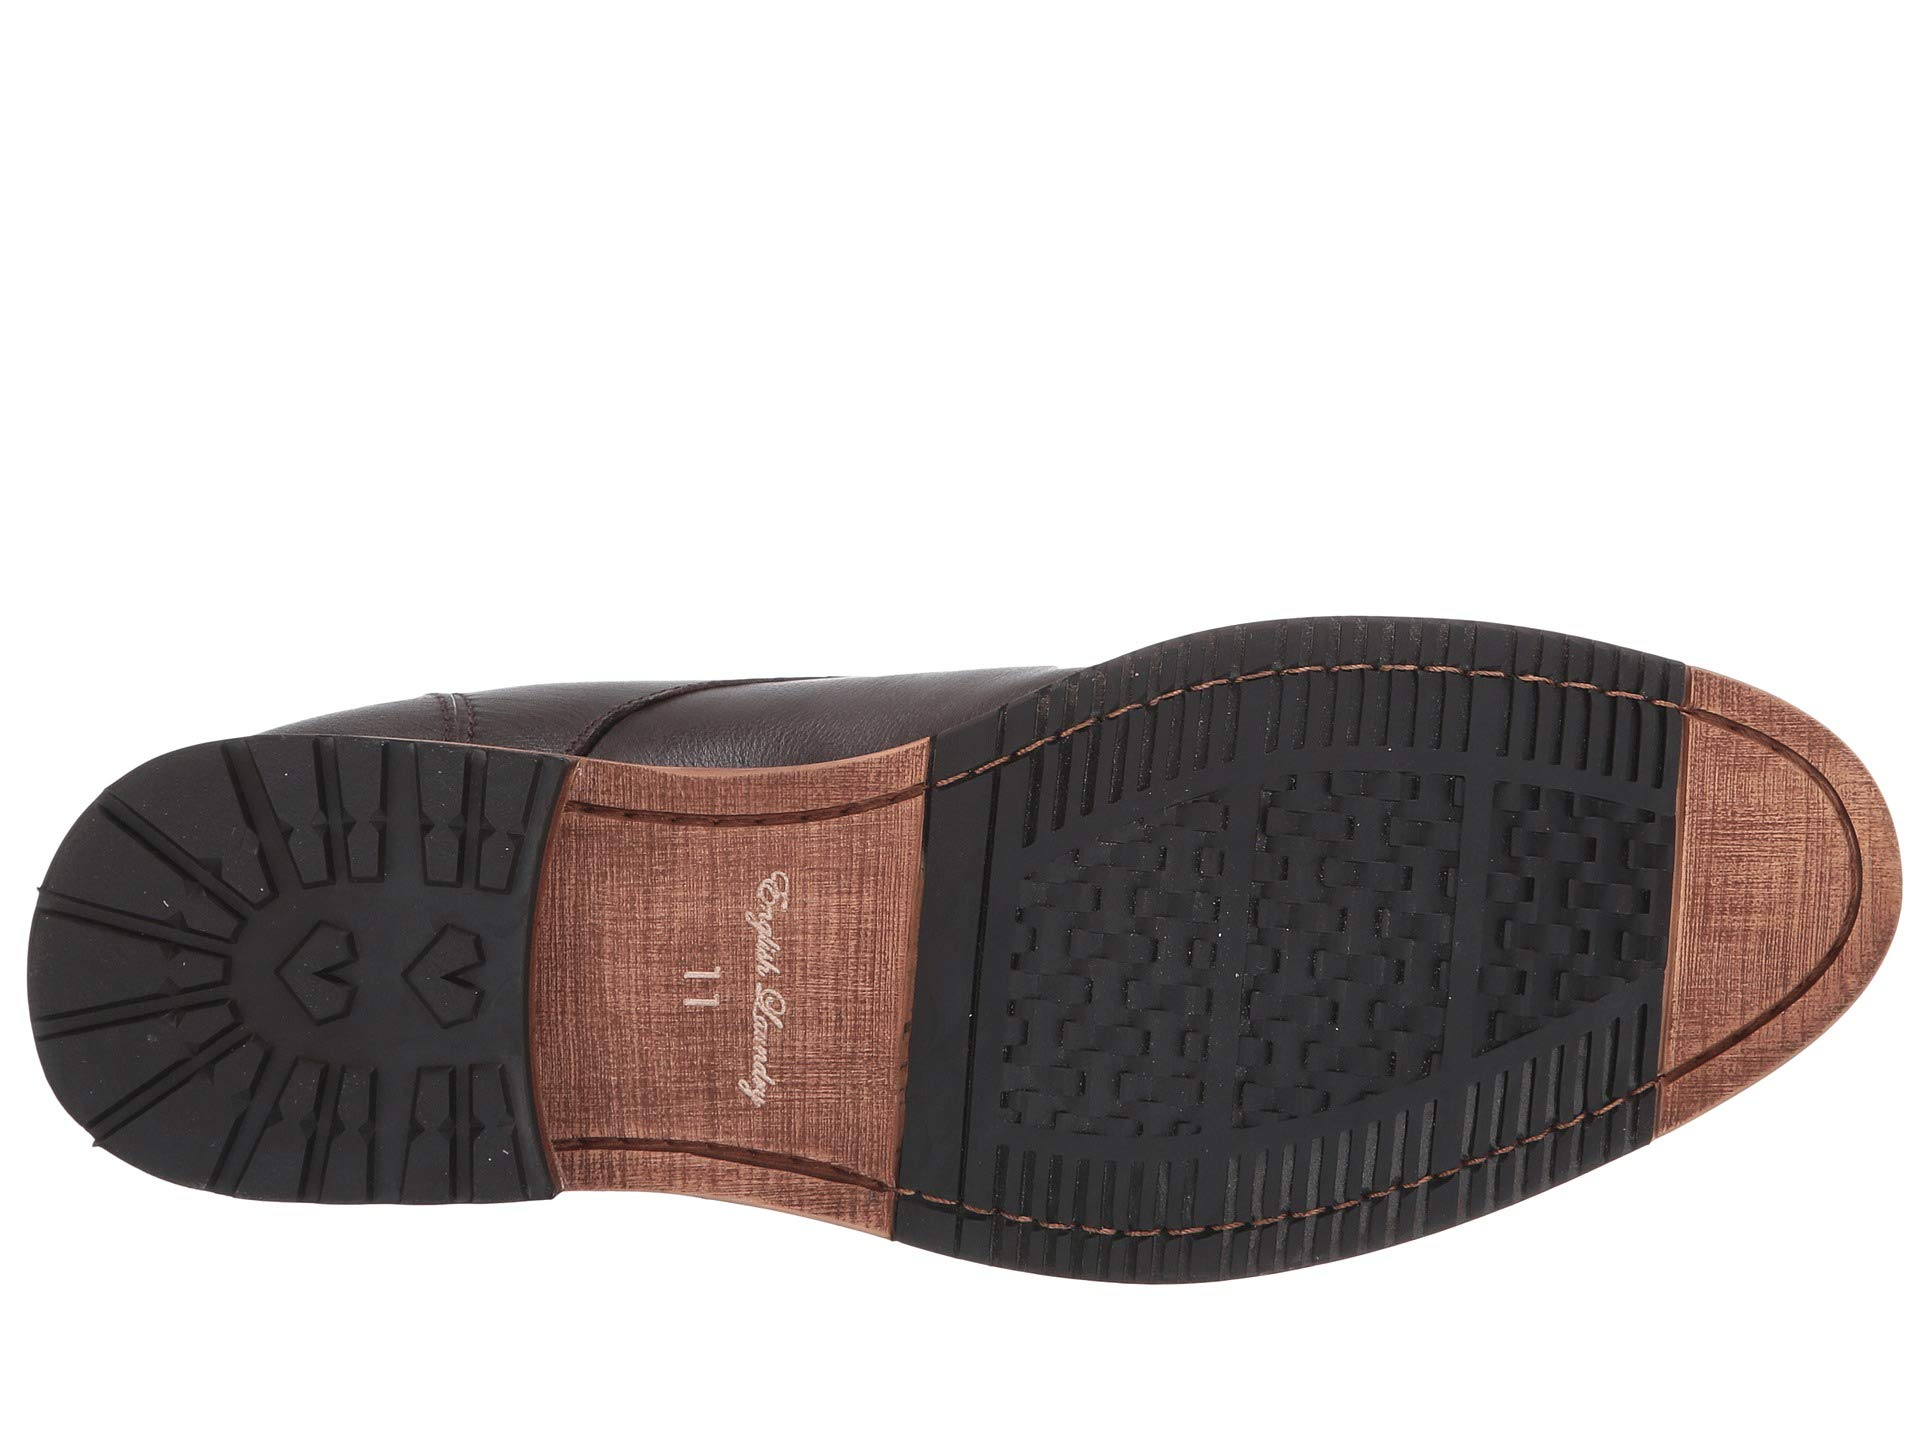bowtie: (1222, 759, 1492, 1151), (283, 1029, 561, 1249), (54, 725, 296, 933)
chevron: (251, 918, 511, 1030)
quad: (1222, 759, 1492, 1151)
